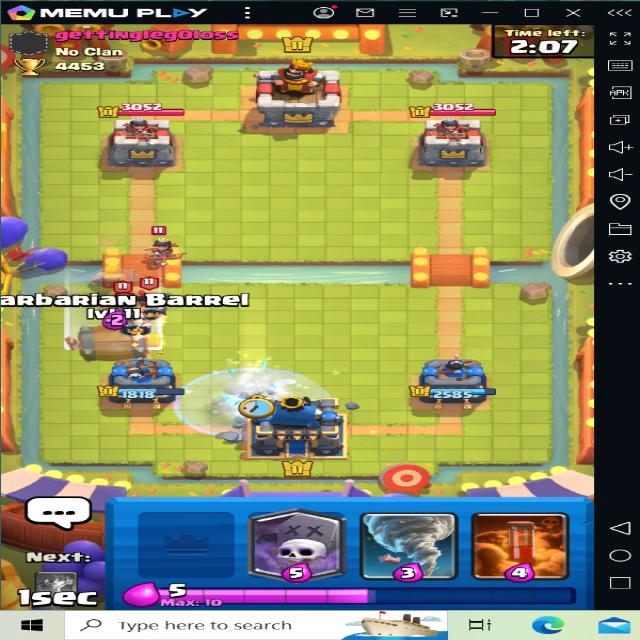guards: (120, 302, 156, 331)
princess: (137, 223, 182, 268)
